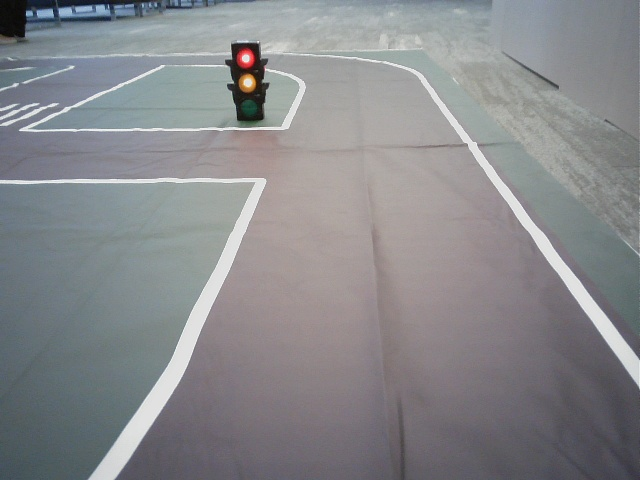red: (230, 47, 264, 118)
